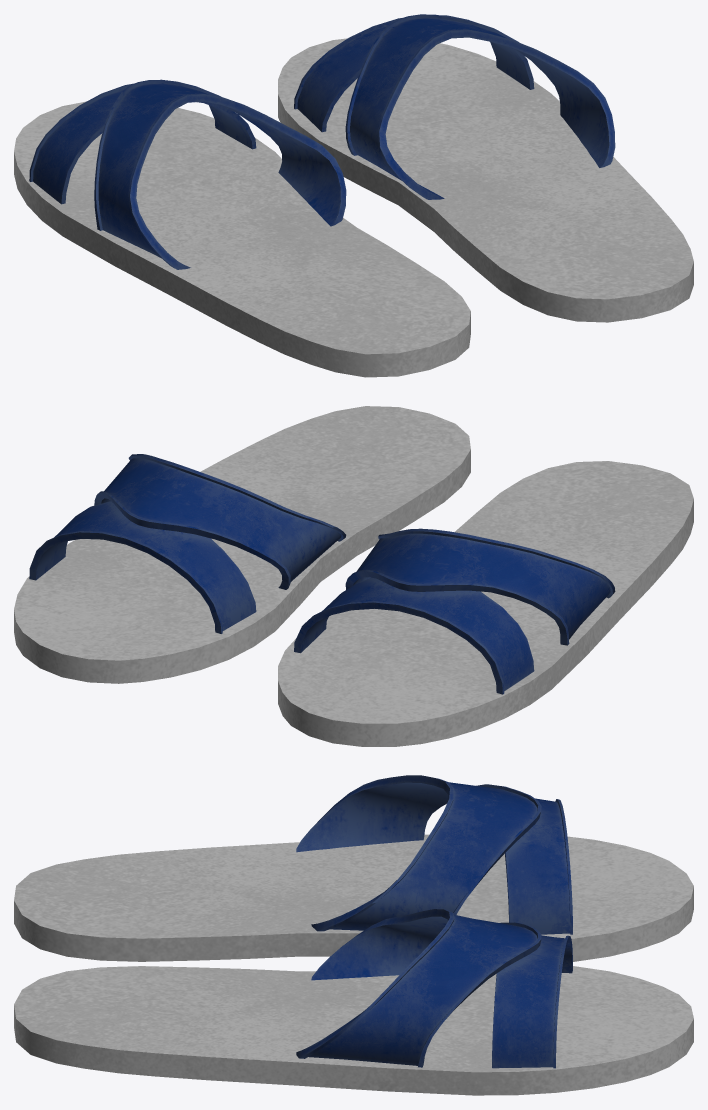
The model's file is slippers_01-1.fbx.
The picture shows the model from 3 angles, top to bottom: view 1: azimuth 30°, elevation 25°; view 2: azimuth 150°, elevation 25°; view 3: azimuth 270°, elevation 25°; orthographic projection.
Visible parts, largest first — view 1: shoe_01-1; view 2: shoe_01-1; view 3: shoe_01-1.
Part boxes in pixels (left/top/right/bottom): shoe_01-1: left=14, top=14, right=693, bottom=377; shoe_01-1: left=14, top=406, right=693, bottom=746; shoe_01-1: left=14, top=775, right=693, bottom=1095.
Bounding box in the file's own units: 24.08 × 5.74 × 28.86.
Materials: 1 (1 with a texture image).
